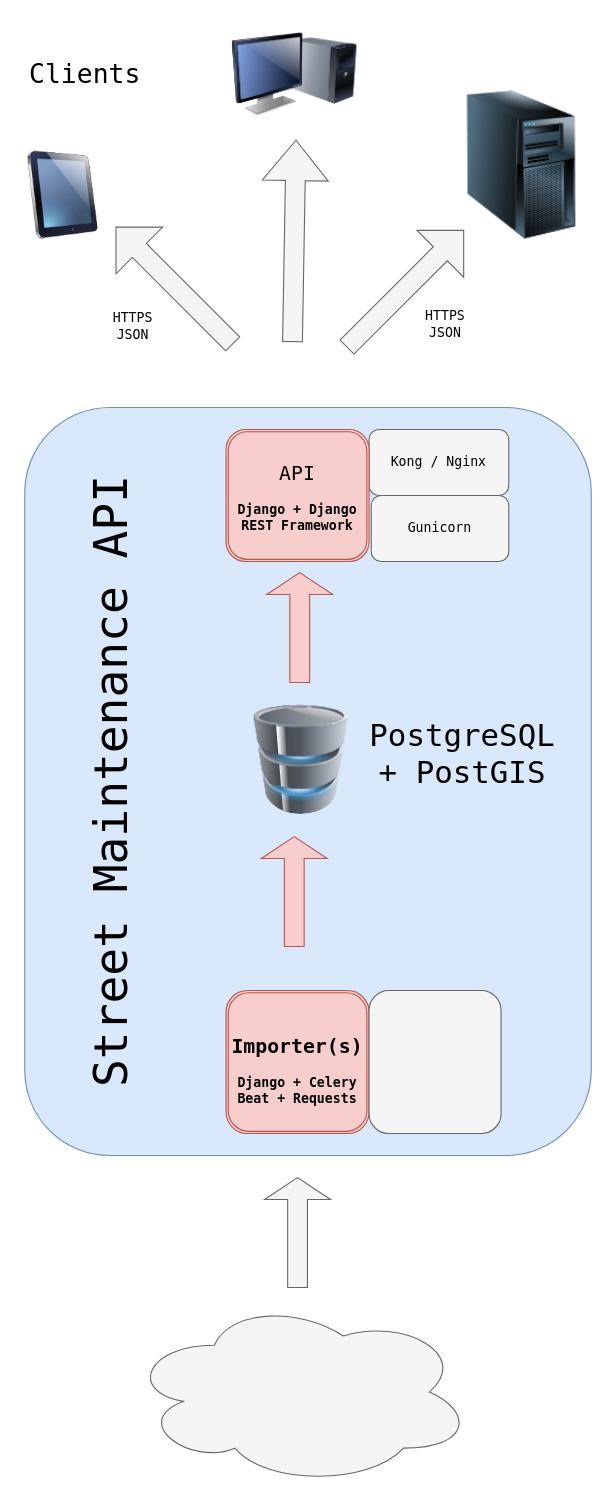
The diagram is 615 pixels wide and 1505 high, and some of its shapes have lost their labels. The shapes that lost their labels are listed below. From the top down, each one's centre as x and y in pixels, then its label:
At point 434,1061: "Supervisor".
At point 299,1391: "Third party API(s)".
